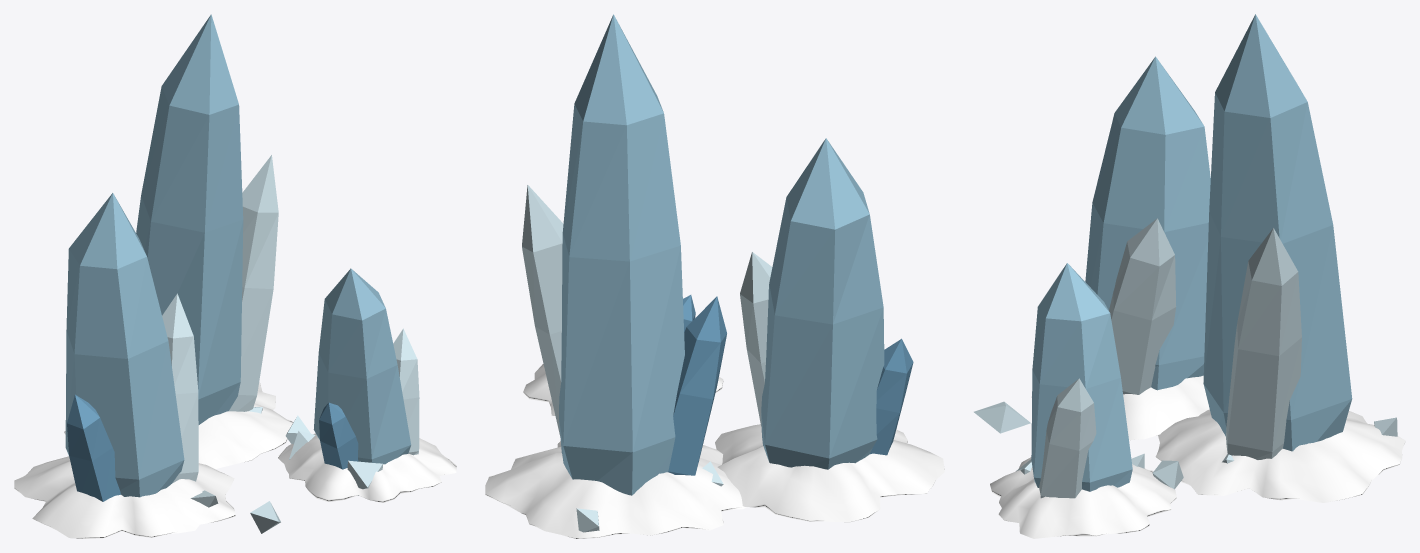
Rendered from detail_ice_pillars.glb.
3 renders of one model, left to right at view 1: azimuth 30°, elevation 25°; view 2: azimuth 150°, elevation 25°; view 3: azimuth 270°, elevation 25°, orthographic. The views are drawn at different scales.
Parts seen in each view (by area): view 1: object 2, object 5, plaster, object 8, object 3, object 6, object 7, object 11, object 10, object 9; view 2: object 2, object 5, plaster, object 3, object 4, object 6, object 7, object 11; view 3: object 2, plaster, object 5, object 8, object 3, object 6, object 9, object 11.
Boxes of the visible parts, x1,y1,x2,y2 form: object 2: (136, 14, 243, 424); object 5: (65, 193, 184, 497); plaster: (14, 382, 456, 538); object 8: (313, 268, 411, 464); object 3: (229, 155, 278, 411); object 6: (162, 293, 198, 483); object 7: (67, 394, 120, 501); object 11: (190, 407, 382, 533); object 10: (319, 402, 358, 469); object 9: (393, 328, 419, 455); object 2: (559, 14, 684, 495); object 5: (761, 138, 884, 469); plaster: (485, 364, 944, 538); object 3: (522, 185, 563, 435); object 4: (668, 296, 726, 475); object 6: (740, 252, 772, 426); object 7: (870, 338, 913, 455); object 11: (576, 461, 723, 532); object 2: (1203, 14, 1352, 451); plaster: (990, 375, 1405, 538); object 5: (1085, 56, 1210, 390); object 8: (1031, 263, 1132, 491); object 3: (1226, 228, 1301, 459); object 6: (1109, 218, 1176, 394); object 9: (1039, 378, 1096, 498); object 11: (974, 401, 1397, 489).
Size of the model in its own units: 1.3 by 1.4 by 1.2.
